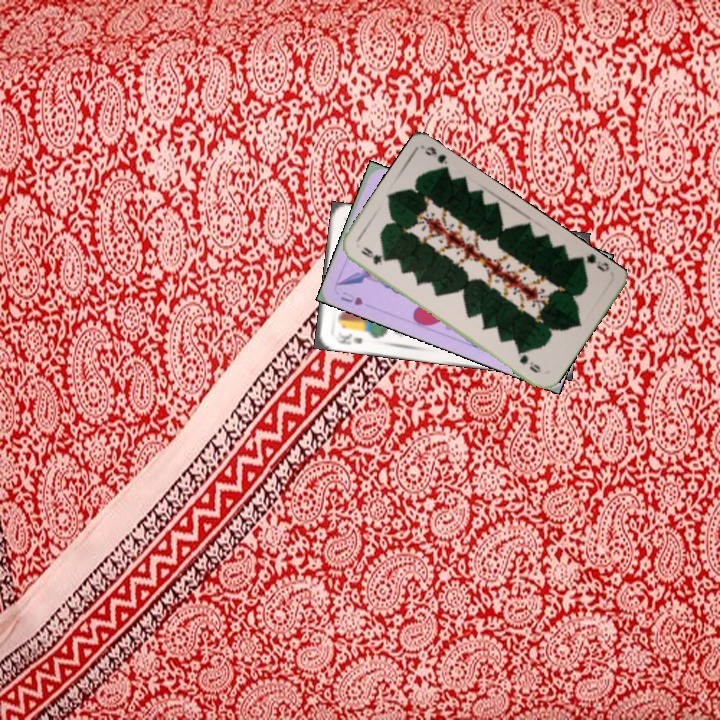EK: (330, 328, 365, 347)
G9: (576, 250, 612, 274), (356, 242, 389, 267)
HU: (336, 288, 366, 308)
